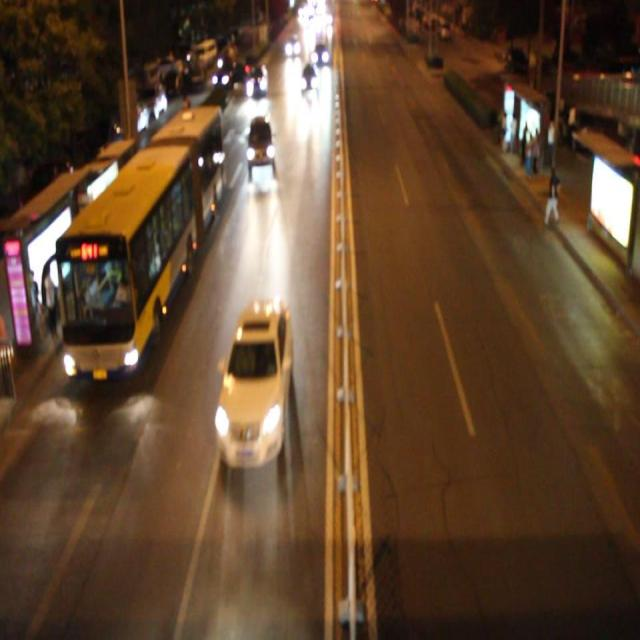car: (214, 298, 291, 471), (244, 61, 269, 99), (300, 62, 320, 92)
truck: (245, 115, 275, 169)
van: (54, 102, 219, 376)
